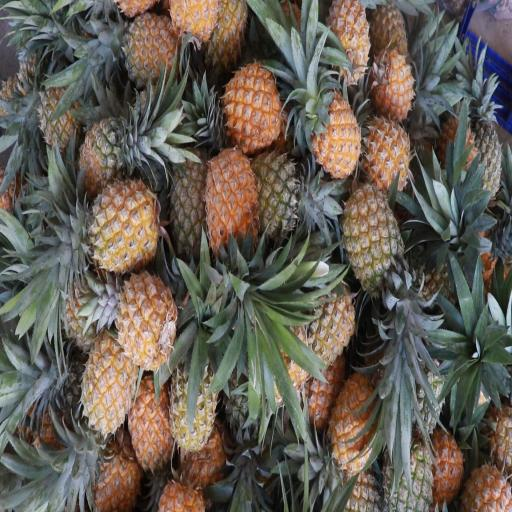------------------------------: (335, 163, 401, 293), (162, 330, 215, 454), (64, 99, 138, 184), (245, 144, 306, 240), (114, 15, 180, 92)
Pineapple - v8 v1: (66, 168, 160, 270), (199, 130, 262, 260), (106, 252, 175, 364), (318, 353, 384, 469), (76, 305, 135, 426), (290, 250, 356, 356), (221, 41, 281, 148), (298, 78, 362, 176), (354, 92, 411, 188), (122, 358, 173, 460), (315, 0, 372, 80), (362, 36, 415, 119), (83, 434, 139, 512)
